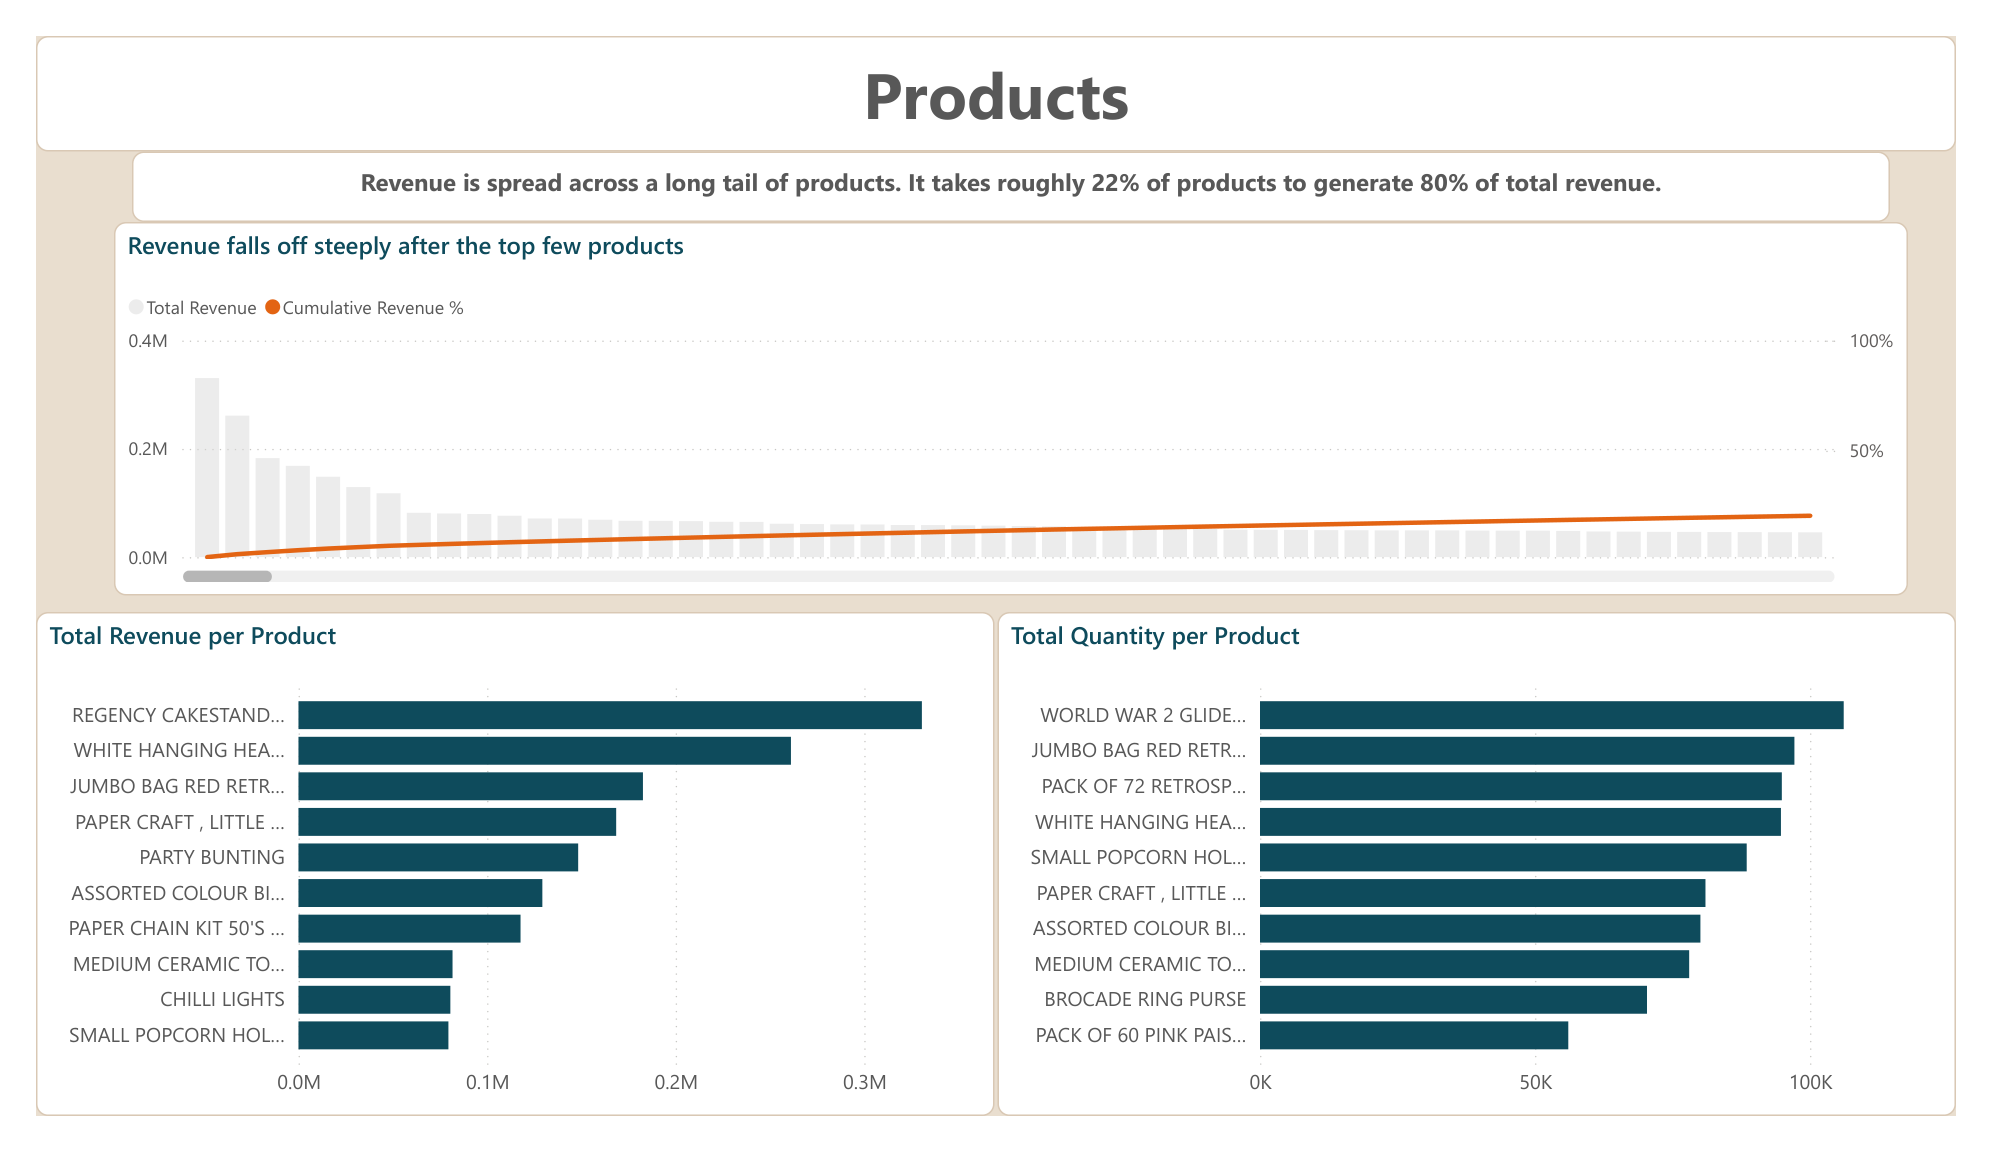

What the dashboard file says about the page in this screenshot:
{"tool":"powerbi","page":{"name":"Products","canvas":[1280,720],"ordinal":1},"visuals":[{"type":"clusteredBarChart","title":"Total Revenue per Product","fields":{"Category":["dim product.description"],"Y":["_Measures.Total Revenue"]},"box":[0,384.4,639.4,335.9],"z":0},{"type":"clusteredBarChart","title":"Total Quantity per Product","fields":{"Category":["dim product.description"],"Y":["_Measures.Total Quantity"]},"box":[640.6,384.4,639.4,335.9],"z":1000},{"type":"lineClusteredColumnComboChart","title":"Revenue falls off steeply after the top few products","fields":{"Category":["dim product.description"],"Y":["_Measures.Total Revenue"],"Y2":["_Measures.Cumulative Revenue %"]},"box":[51.5,123.9,1196.7,248.8],"z":2000},{"type":"textbox","box":[63.8,77.3,1171.8,46.6],"z":3000},{"type":"textbox","box":[0,0,1279.8,77.3],"z":4000}]}

Visuals, with their boxes in screenshot pixels (x1, y1, x2, y2), scaled from the page's 1280x720 canvas onto the 1992x1152 screenshot:
"Total Revenue per Product" clusteredBarChart: bbox=[0, 615, 995, 1151]
"Total Quantity per Product" clusteredBarChart: bbox=[997, 615, 1991, 1151]
"Revenue falls off steeply after the top few products" lineClusteredColumnComboChart: bbox=[80, 198, 1943, 596]
textbox: bbox=[99, 124, 1923, 198]
textbox: bbox=[0, 0, 1991, 124]
